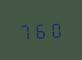seven: (18, 21, 32, 40)
six: (34, 20, 48, 39)
zero: (49, 19, 63, 38)
